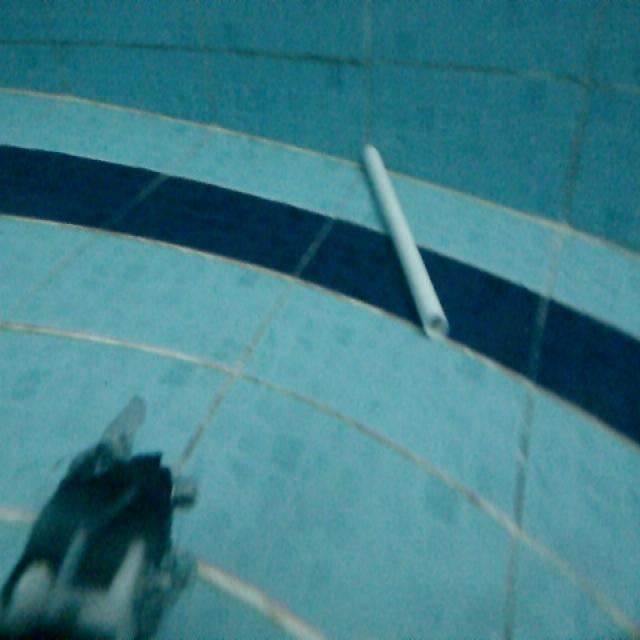Cube: (355, 136, 454, 341)
